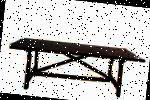Mesa: (5, 36, 145, 99)
